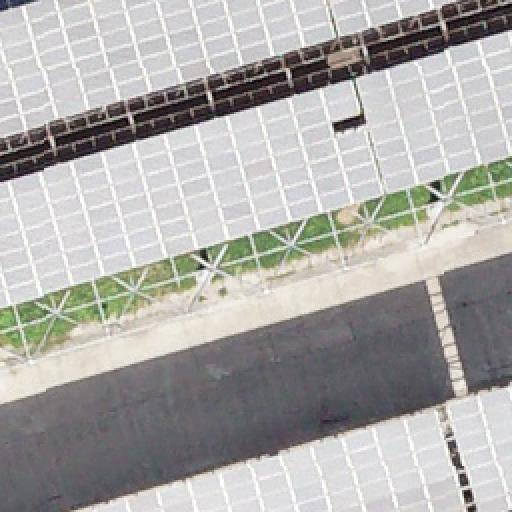solar-panel: (0, 32, 512, 308), (1, 0, 463, 136), (76, 408, 468, 512), (444, 384, 512, 512)
